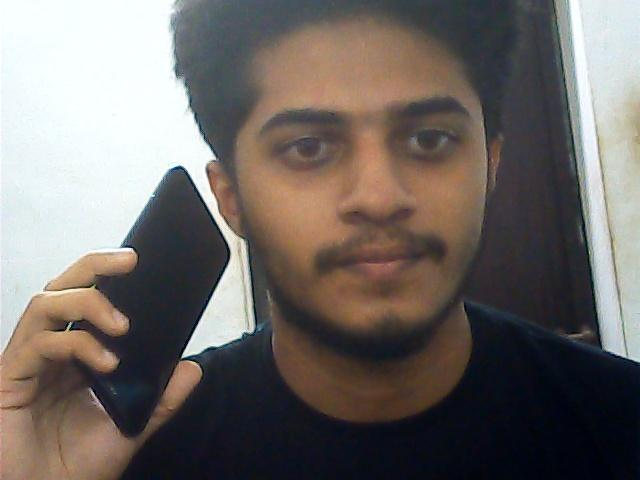PhoneUse: (82, 155, 224, 428)
SafeDriving: (386, 107, 472, 168), (265, 118, 355, 172)
